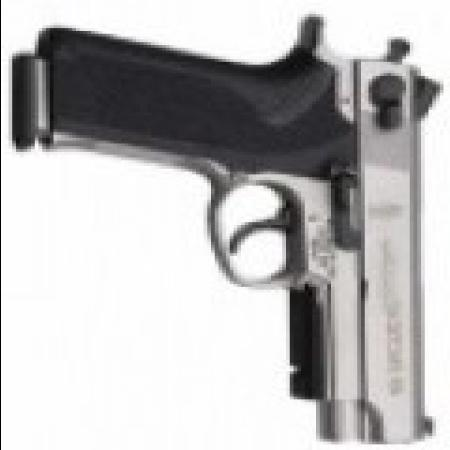Pistol: (11, 28, 446, 442)
